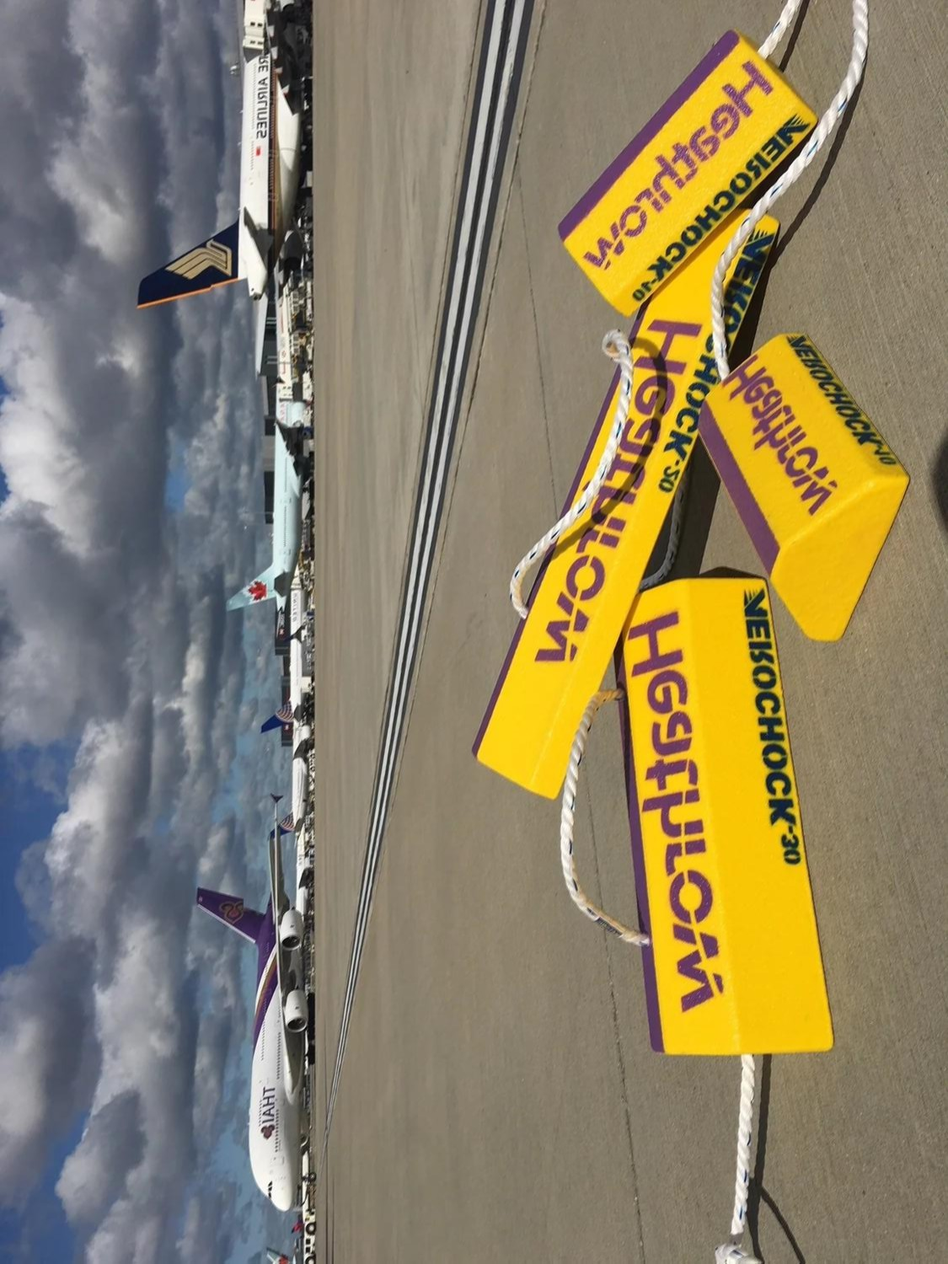chock: (467, 196, 780, 802), (601, 574, 835, 1059), (550, 23, 820, 319), (696, 331, 914, 644)
